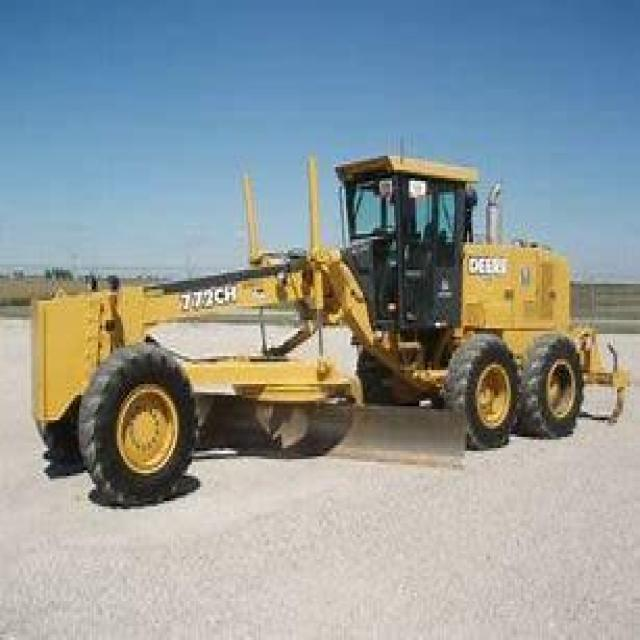buldozerpayloadergrader: (25, 130, 628, 503)
